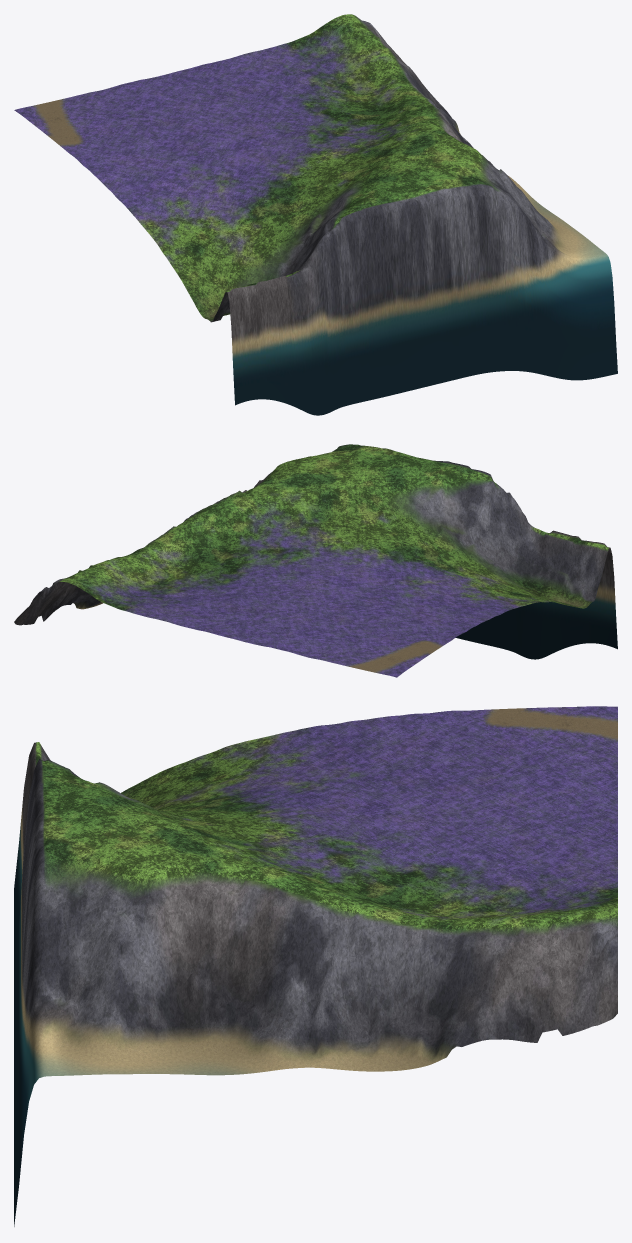
3 views of the same model, one above another, from view 1: azimuth 30°, elevation 25°; view 2: azimuth 150°, elevation 25°; view 3: azimuth 270°, elevation 25° (orthographic). The views are drawn at different scales.
Visible parts, largest first — view 1: s10, s20, s00, s30, s01, s11, s02, s12, s23, s03, s13, s33 (+4 smaller); view 2: s00, s10, s21, s11, s22, s12, s13, s03, s23, s02, s33, s20 (+3 smaller); view 3: s31, s30, s32, s33, s20, s23, s22, s03, s13, s02, s12, s01 (+4 smaller).
Boxes of the visible parts, left/top/right/bottom form: s10: left=275, top=171, right=426, bottom=411; s20: left=371, top=143, right=522, bottom=386; s00: left=180, top=236, right=330, bottom=415; s30: left=471, top=147, right=617, bottom=380; s01: left=125, top=178, right=275, bottom=277; s11: left=220, top=146, right=370, bottom=236; s02: left=69, top=130, right=219, bottom=205; s12: left=165, top=107, right=315, bottom=177; s23: left=206, top=38, right=355, bottom=107; s03: left=14, top=88, right=164, bottom=153; s13: left=110, top=64, right=260, bottom=129; s33: left=301, top=14, right=451, bottom=117; s00: left=467, top=498, right=617, bottom=659; s10: left=371, top=457, right=522, bottom=655; s21: left=220, top=468, right=370, bottom=552; s11: left=316, top=496, right=466, bottom=583; s22: left=165, top=518, right=315, bottom=593; s12: left=261, top=552, right=410, bottom=616; s13: left=206, top=594, right=355, bottom=655; s03: left=301, top=617, right=451, bottom=677; s23: left=110, top=578, right=260, bottom=631; s02: left=356, top=584, right=506, bottom=639; s33: left=14, top=557, right=164, bottom=625; s20: left=276, top=444, right=414, bottom=495; s31: left=165, top=875, right=315, bottom=1075; s30: left=14, top=874, right=164, bottom=1226; s32: left=316, top=886, right=466, bottom=1071; s33: left=467, top=895, right=617, bottom=1045; s20: left=14, top=801, right=164, bottom=1127; s23: left=467, top=835, right=617, bottom=912; s22: left=316, top=837, right=466, bottom=913; s03: left=467, top=706, right=617, bottom=774; s13: left=467, top=772, right=617, bottom=838; s02: left=316, top=710, right=466, bottom=784; s12: left=316, top=774, right=466, bottom=839; s01: left=165, top=726, right=315, bottom=808.
Bounding box in the file's own units: 64 × 35.04 × 64.
16 materials, 16 textured.
